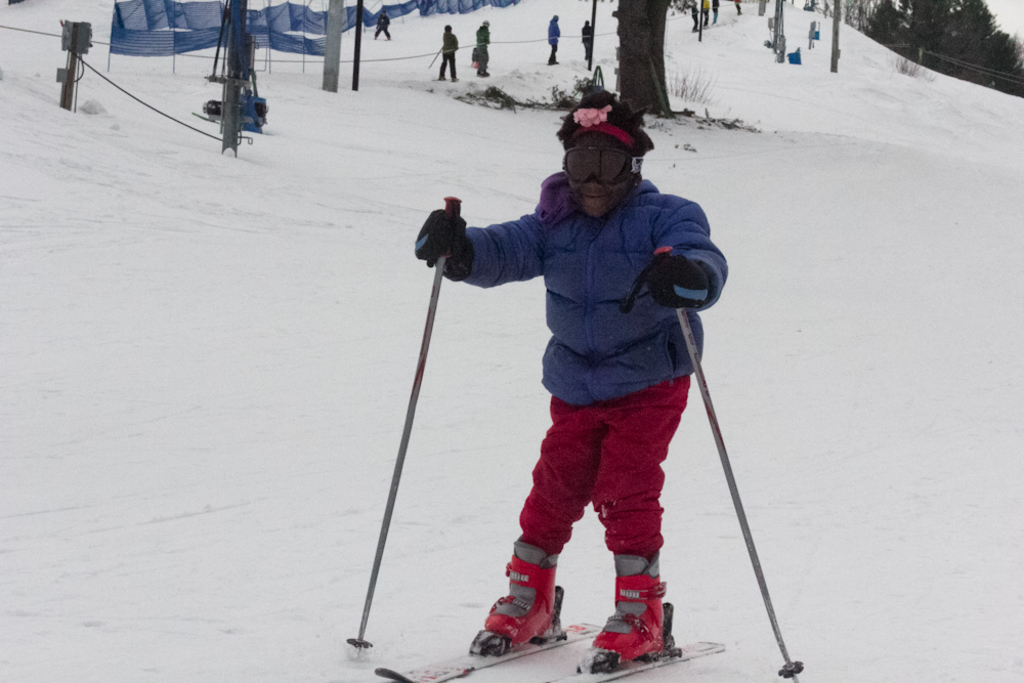Person: (414, 85, 730, 663), (437, 24, 460, 82), (476, 21, 490, 76), (548, 13, 559, 64), (374, 8, 391, 37), (583, 20, 594, 59), (691, 1, 699, 32), (702, 0, 710, 27), (713, 0, 720, 23), (471, 47, 479, 65), (734, 0, 741, 13)
